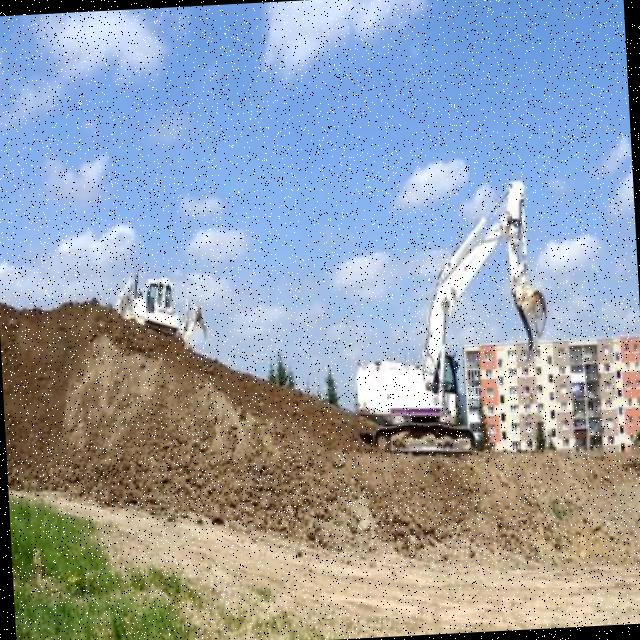Excavator: (343, 176, 556, 464)
